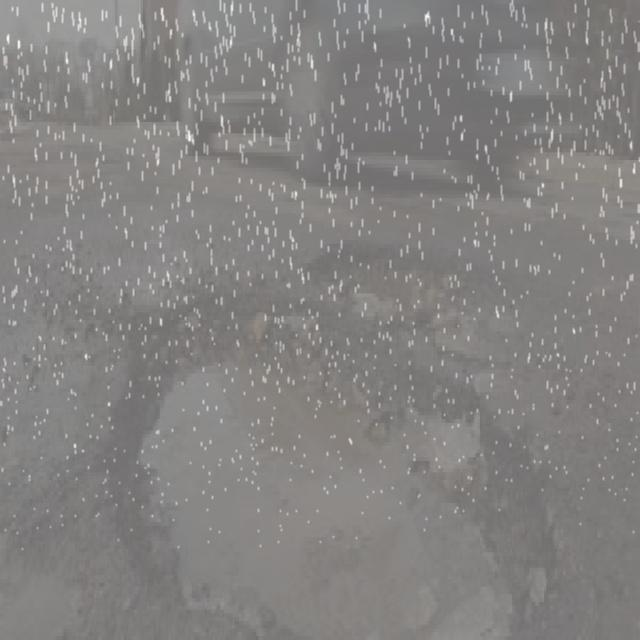Pothole: (74, 218, 571, 640)
